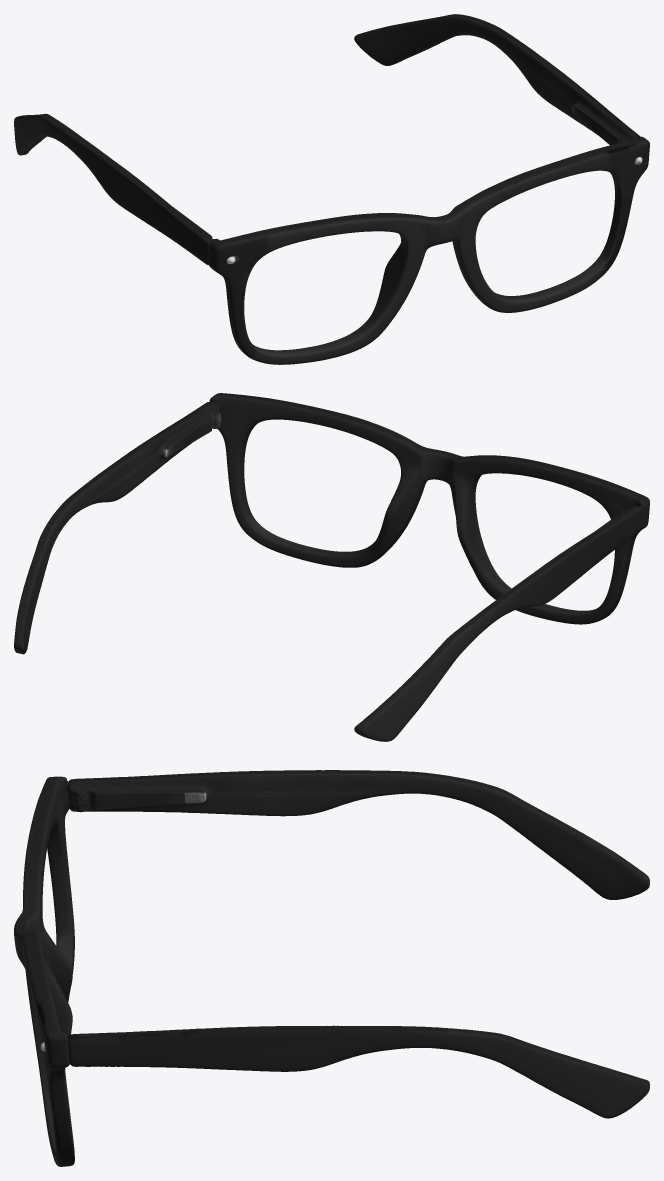
The model's file is 02_wayfarer.glb.
The picture shows the model from 3 angles, top to bottom: view 1: azimuth 30°, elevation 25°; view 2: azimuth 150°, elevation 25°; view 3: azimuth 270°, elevation 25°; orthographic projection. The views are drawn at different scales.
Visible parts, largest first — view 1: Object_5; view 2: Object_5; view 3: Object_5.
Boxes of the visible parts, <box> form: Object_5: <box>14,14,649,364</box>; Object_5: <box>14,393,649,741</box>; Object_5: <box>14,770,649,1166</box>.
Size of the model in its own units: 1.84 by 0.5893 by 1.9.
Materials: 1 (1 with a texture image).
